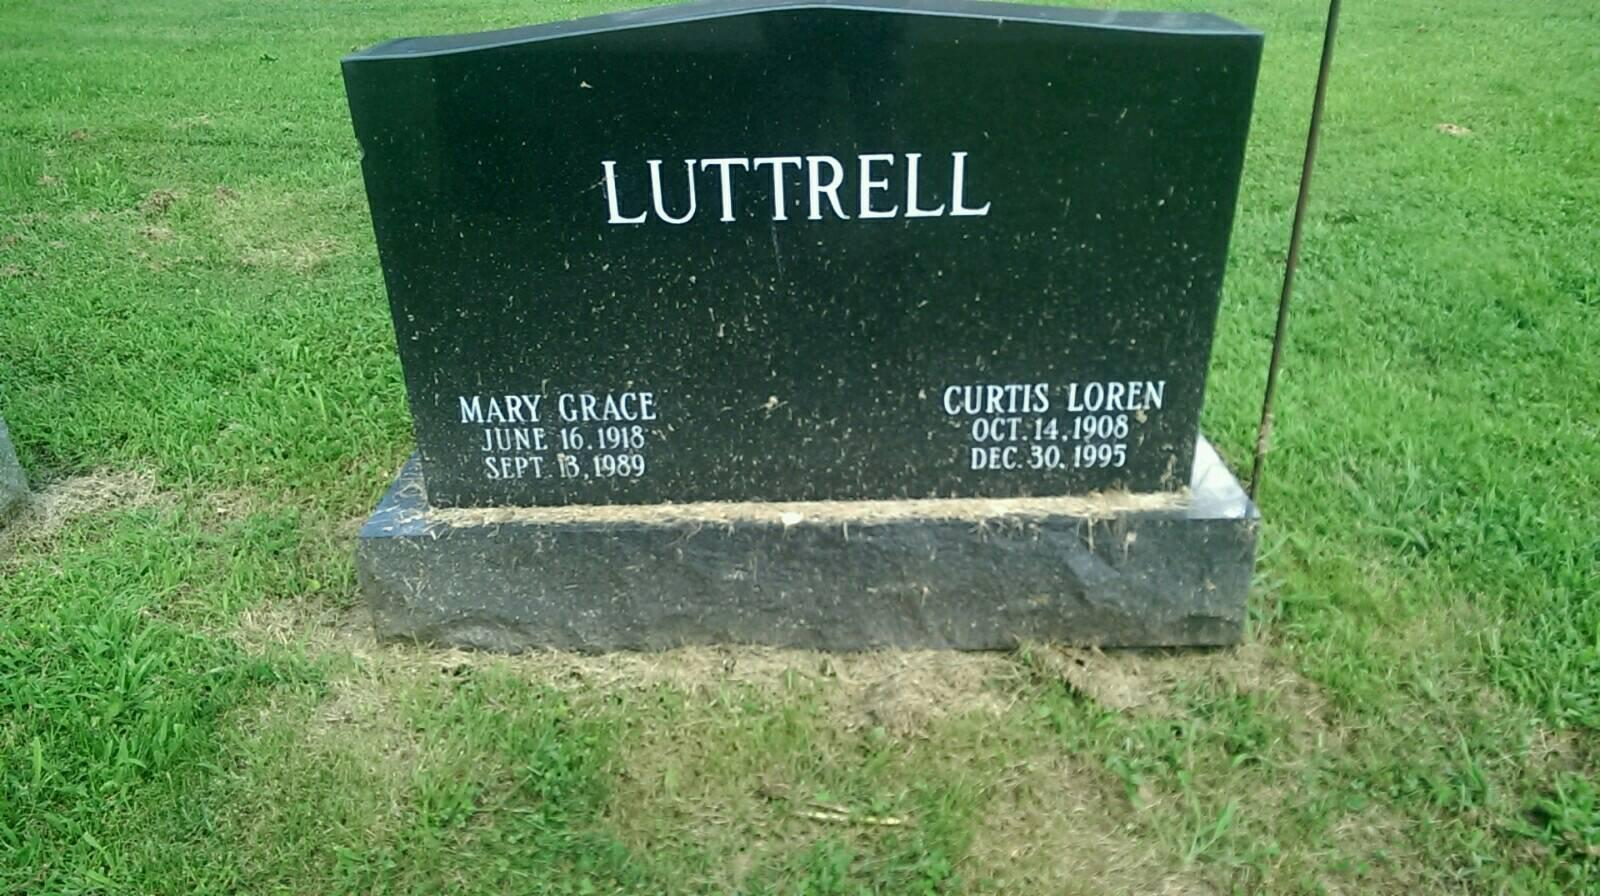upright: (341, 0, 1271, 648)
